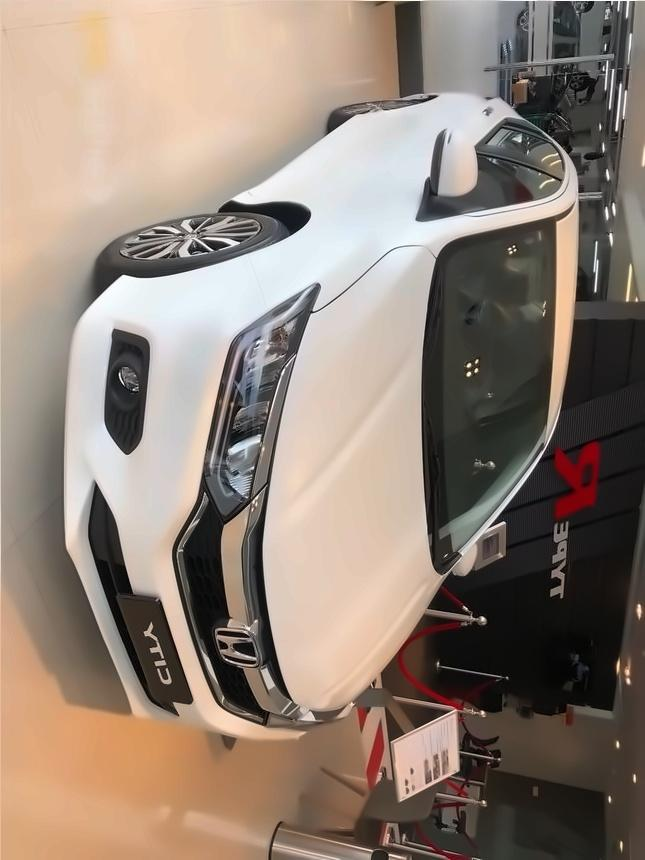Car hood: (260, 240, 447, 716)
Driver-s door - -F-R-: (259, 142, 574, 204)
Fender - -F-R-: (214, 197, 440, 311)
Front bumper: (57, 266, 227, 744)
Headlight - -R-: (197, 277, 334, 528)
Passenger-s door - -R-R-: (342, 94, 566, 160)
Side bumper - -R-: (212, 103, 377, 220)
Side mirror - -L-: (439, 529, 484, 581)
Side mirror - -R-: (423, 123, 483, 206)
